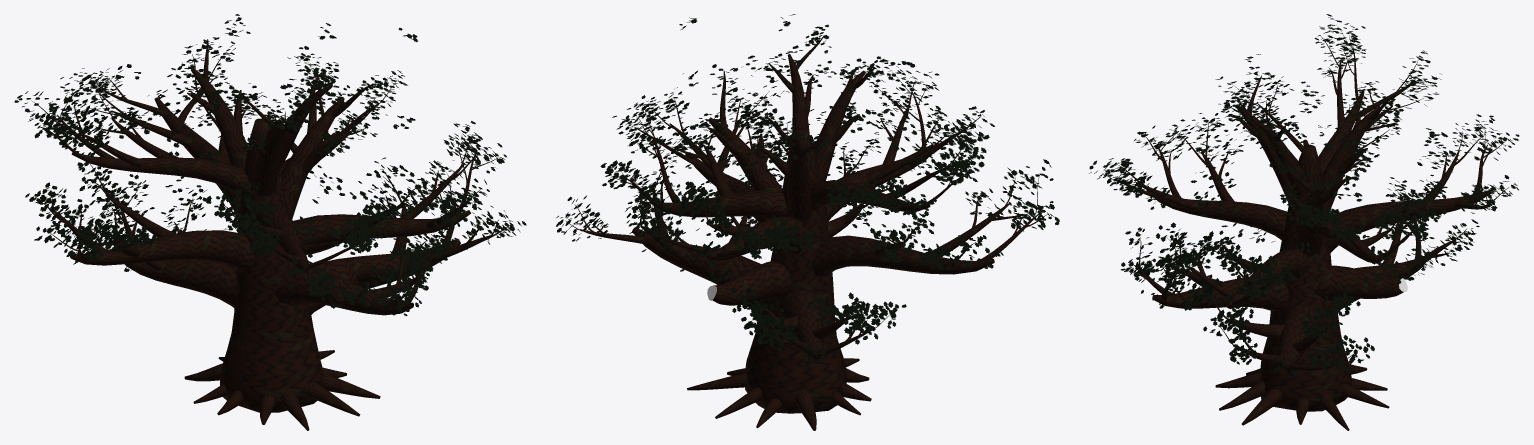
File: sacred_grove_ancient_oak.glb
3 views of the same model, side by side, from view 1: azimuth 30°, elevation 25°; view 2: azimuth 150°, elevation 25°; view 3: azimuth 270°, elevation 25° (orthographic). The views are drawn at different scales.
Parts seen in each view (by area): view 1: AncientOakWood, AncientOakFoliage; view 2: AncientOakWood, AncientOakFoliage; view 3: AncientOakWood, AncientOakFoliage.
Part boxes in pixels (x1,y1,x2,y2): AncientOakWood: (31, 39, 511, 430); AncientOakFoliage: (14, 14, 526, 316); AncientOakWood: (565, 36, 1047, 430); AncientOakFoliage: (556, 14, 1059, 366); AncientOakWood: (1102, 28, 1509, 430); AncientOakFoliage: (1089, 14, 1519, 374).
Bounding box in the file's own units: 30.22 × 20.81 × 26.5.
4 materials, 2 textured.
